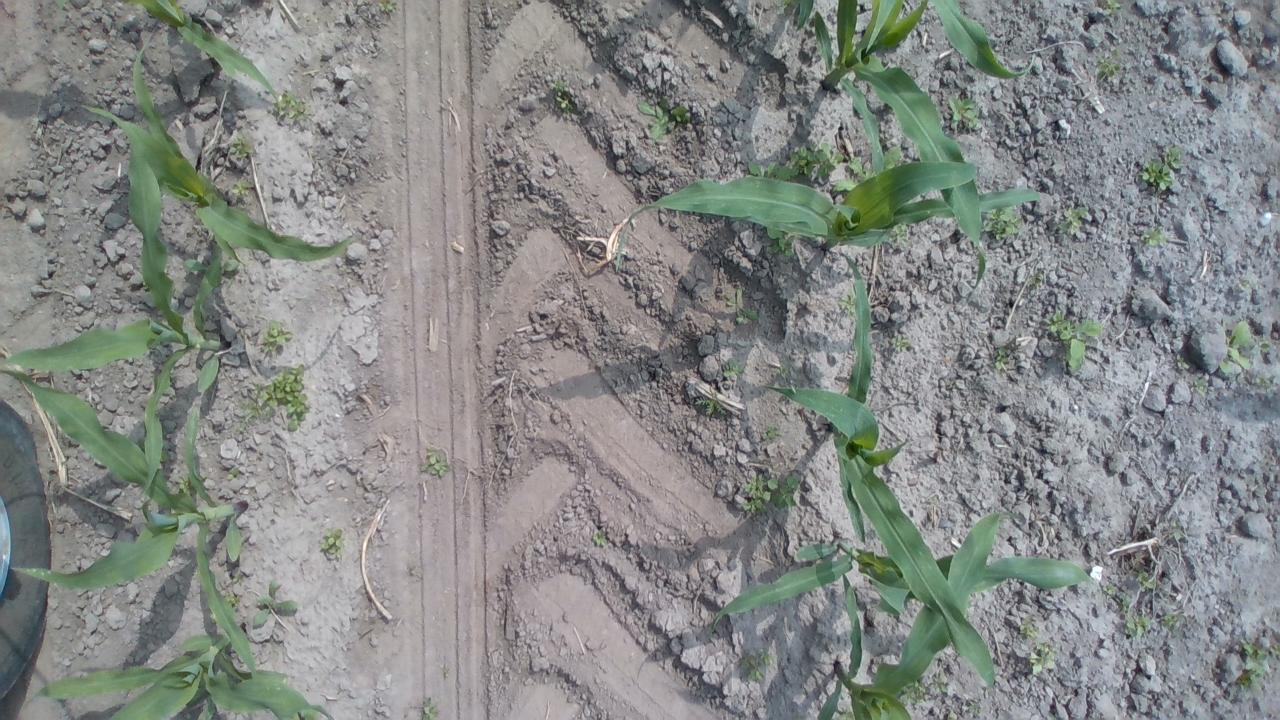Maize: (764, 250, 996, 688), (2, 106, 234, 492), (7, 364, 258, 674), (812, 0, 986, 315), (126, 34, 357, 262), (613, 160, 1041, 272), (818, 512, 1014, 720), (21, 619, 334, 720), (706, 535, 1095, 616), (122, 0, 280, 107), (931, 0, 1036, 80), (787, 0, 811, 32), (57, 0, 66, 12)
Weeds: (1044, 311, 1104, 374), (262, 362, 313, 434), (736, 468, 802, 516), (637, 98, 693, 140), (232, 378, 275, 432), (252, 578, 298, 627), (1235, 638, 1280, 688), (1216, 320, 1256, 372), (793, 139, 844, 178), (1140, 157, 1177, 194), (724, 288, 760, 326), (980, 209, 1024, 240), (260, 318, 294, 358), (740, 646, 776, 682), (272, 90, 312, 122), (1026, 642, 1059, 680), (418, 442, 453, 477), (948, 96, 979, 128), (1102, 582, 1130, 614), (552, 76, 575, 114), (1058, 207, 1090, 234), (747, 159, 795, 177), (1124, 610, 1152, 638), (900, 684, 930, 710), (1096, 49, 1122, 78), (695, 396, 727, 419), (228, 132, 254, 158), (1141, 224, 1169, 248), (320, 527, 344, 555), (1162, 146, 1188, 170), (1134, 566, 1158, 592), (769, 230, 793, 256), (1018, 612, 1040, 640), (1161, 611, 1186, 633), (421, 694, 441, 720), (930, 669, 949, 696), (722, 358, 746, 378), (590, 526, 611, 548), (892, 224, 912, 246), (230, 178, 253, 197), (1256, 333, 1274, 356), (1192, 374, 1210, 397), (994, 347, 1011, 371), (839, 290, 856, 314), (1030, 267, 1046, 292), (761, 424, 781, 442), (1174, 352, 1193, 370), (965, 696, 982, 714), (175, 474, 192, 492), (894, 333, 910, 352), (378, 0, 398, 14), (1236, 275, 1252, 292), (1104, 0, 1122, 14), (226, 466, 242, 480), (1254, 375, 1274, 385), (227, 594, 239, 608), (780, 365, 791, 379), (642, 85, 654, 96), (781, 0, 795, 7), (232, 574, 244, 582)
